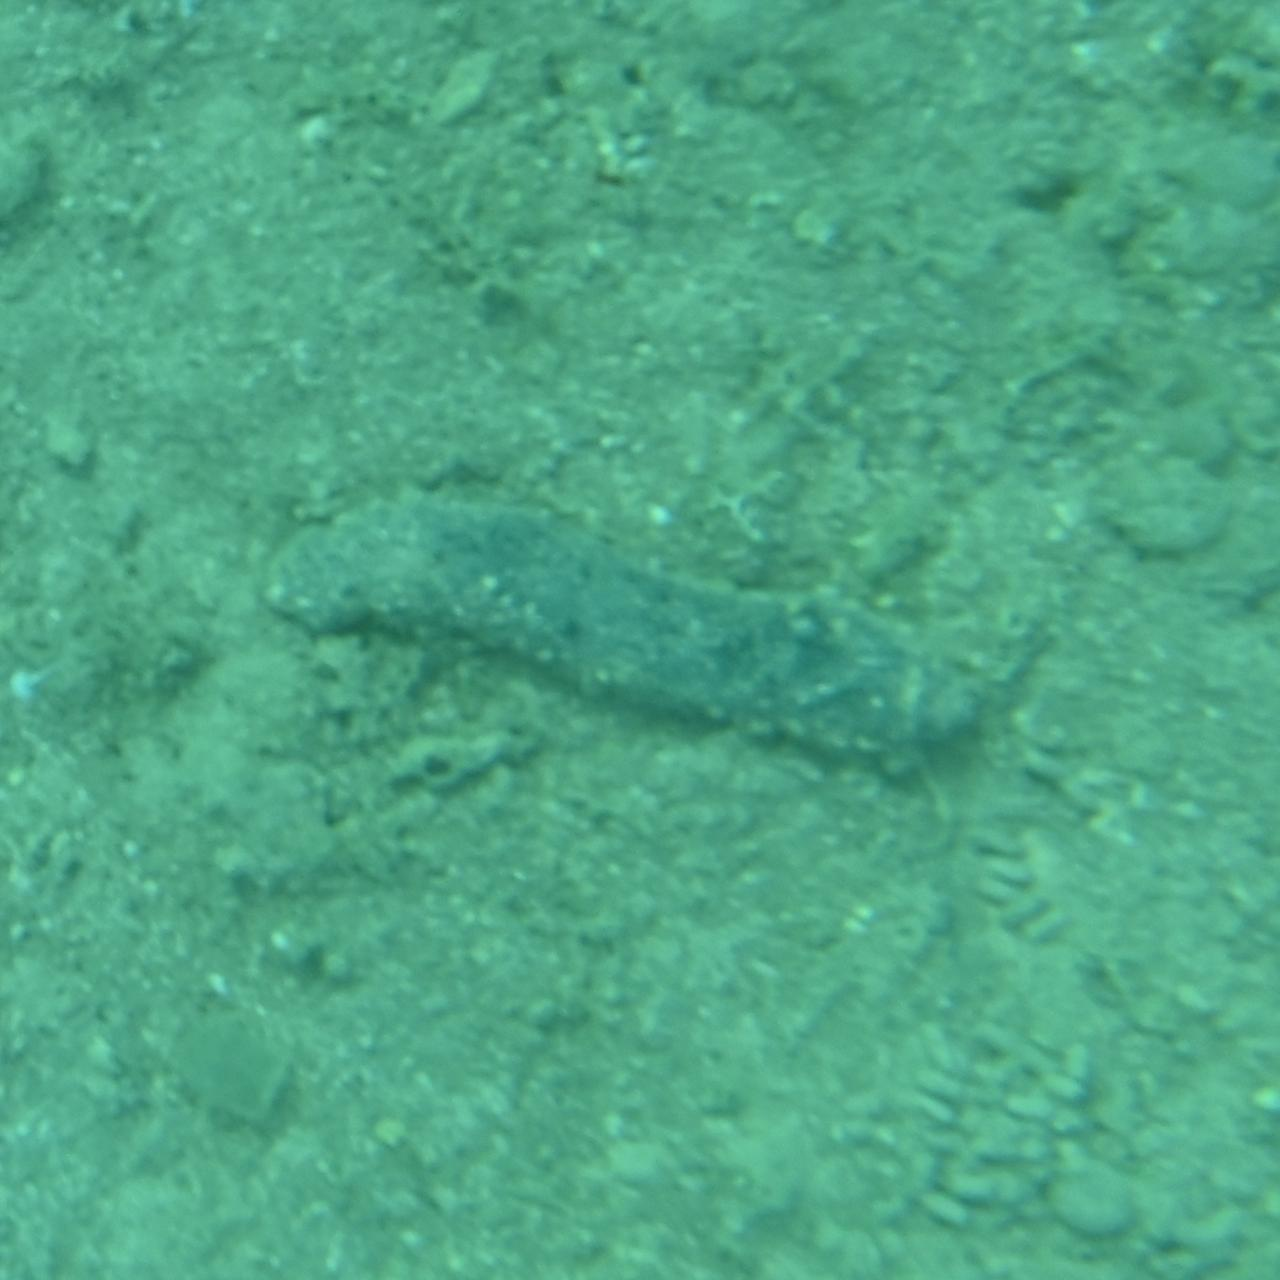Holothuria tubulosa: (246, 472, 1034, 808)
